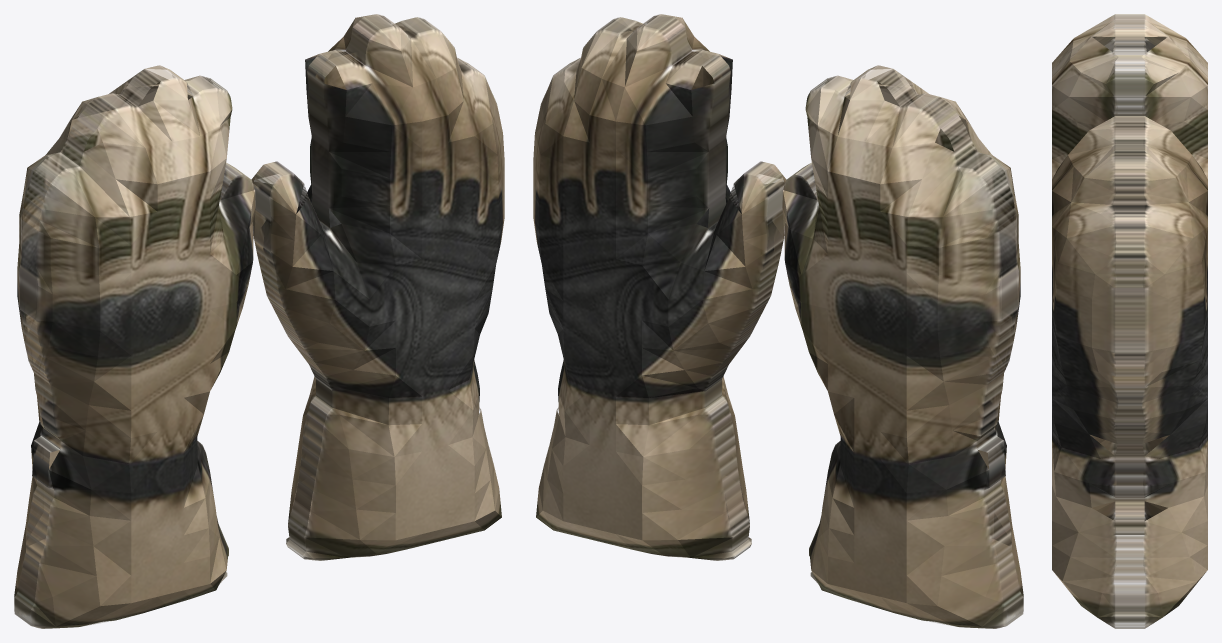
The model's file is quad-lock-circuit-winter-glove-089.glb.
3 views of the same model, side by side, from view 1: azimuth 30°, elevation 25°; view 2: azimuth 150°, elevation 25°; view 3: azimuth 270°, elevation 25° (orthographic). The views are drawn at different scales.
Visible parts, largest first — view 1: world; view 2: world; view 3: world.
Boxes of the visible parts, bbox=[...] form: world: bbox=[14, 14, 504, 628]; world: bbox=[533, 14, 1023, 628]; world: bbox=[1052, 14, 1207, 628].
Bounding box in the file's own units: 0.934 × 1 × 0.3.
1 material, 1 textured.
